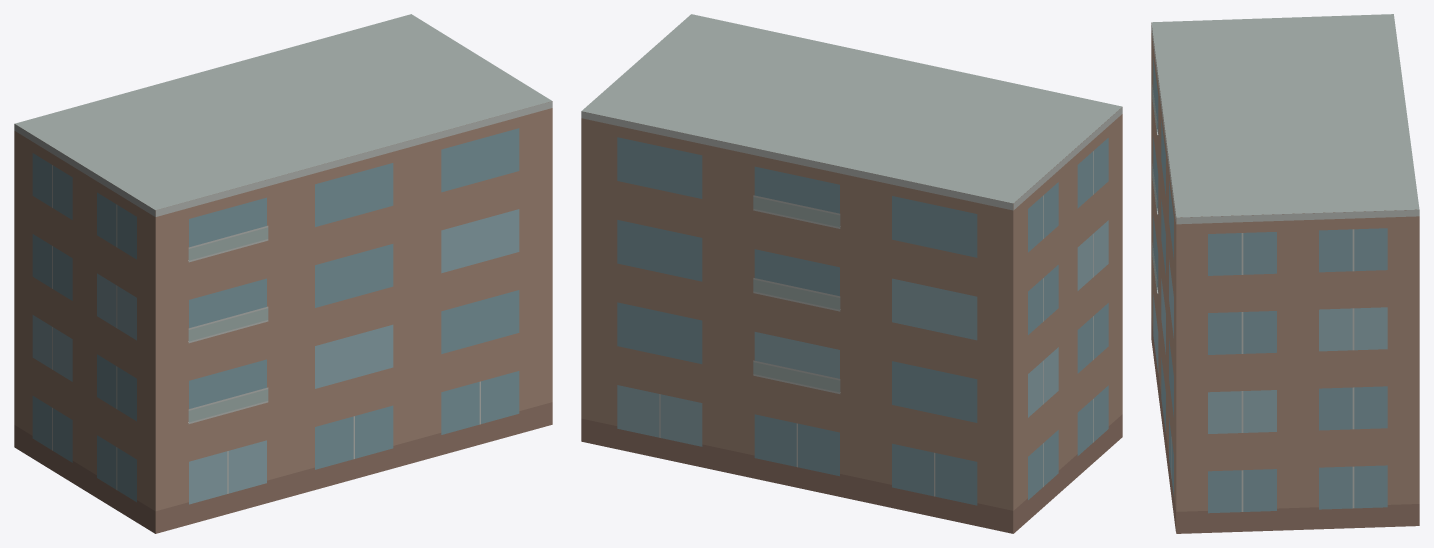
File: survey-upis-32535861.glb
3 renders of one model, left to right at view 1: azimuth 30°, elevation 25°; view 2: azimuth 150°, elevation 25°; view 3: azimuth 270°, elevation 25°, orthographic. The views are drawn at different scales.
Visible parts, largest first — view 1: survey-upis-32535861.tmp; view 2: survey-upis-32535861.tmp; view 3: survey-upis-32535861.tmp.
Part boxes in pixels (<box>): survey-upis-32535861.tmp: <box>14,14,552,533</box>; survey-upis-32535861.tmp: <box>581,14,1122,533</box>; survey-upis-32535861.tmp: <box>1151,14,1419,533</box>.
Size of the model in its own units: 15.79 by 11.43 by 8.79.
